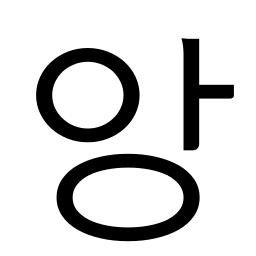Gaji: (166, 70, 214, 115)
